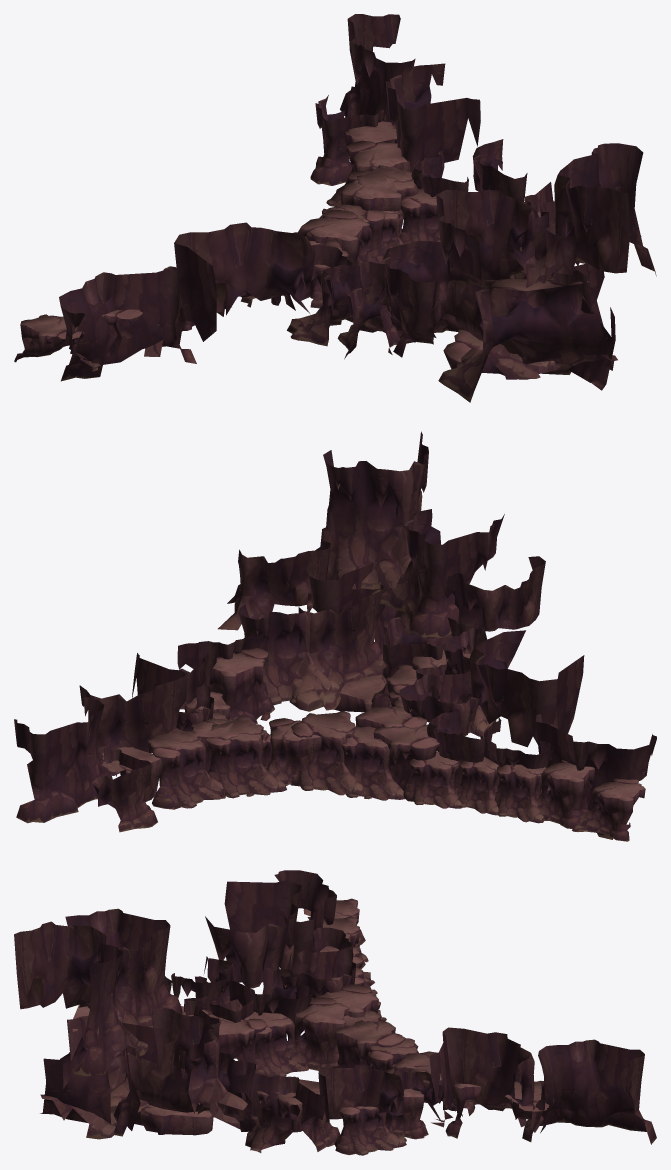
File: area5_shiqiang_02.FBX
3 views of the same model, one above another, from view 1: azimuth 30°, elevation 25°; view 2: azimuth 150°, elevation 25°; view 3: azimuth 270°, elevation 25° (orthographic). The views are drawn at different scales.
Visible parts, largest first — view 1: area5_shiqiang_02; view 2: area5_shiqiang_02; view 3: area5_shiqiang_02.
Part boxes in pixels (x1=…): area5_shiqiang_02: x1=14, y1=14, x2=656, y2=402; area5_shiqiang_02: x1=14, y1=431, x2=656, y2=841; area5_shiqiang_02: x1=14, y1=870, x2=656, y2=1155.
Bounding box in the file's own units: 9558 × 3898 × 11035.
